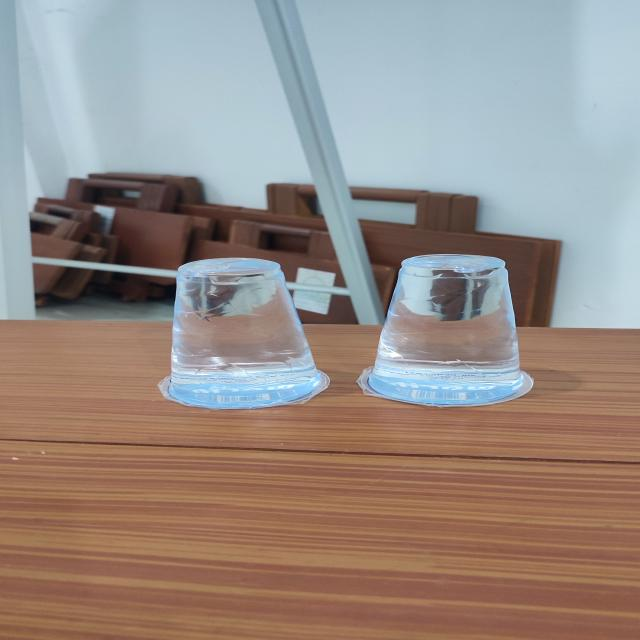air gelas: (342, 245, 547, 413), (152, 252, 335, 422)
